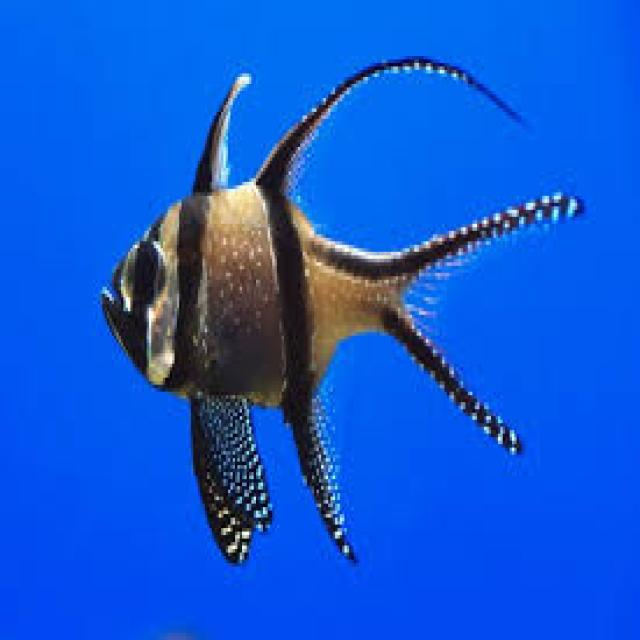Organik: (105, 56, 540, 540)
